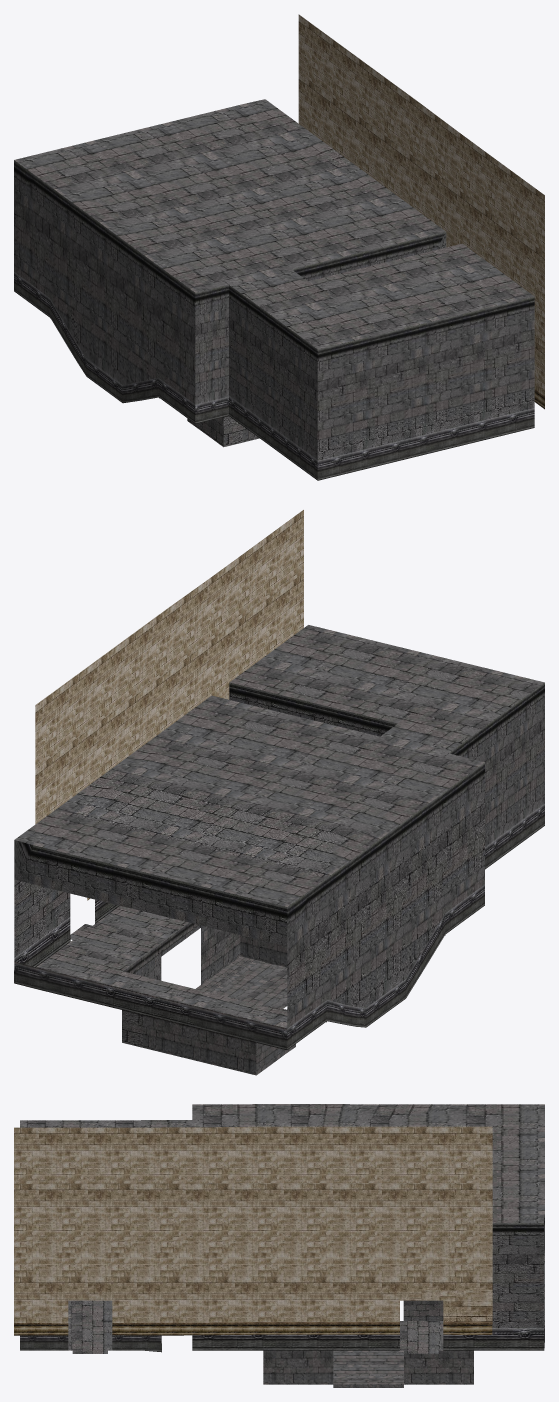
3 renders of one model, top to bottom at view 1: azimuth 30°, elevation 25°; view 2: azimuth 150°, elevation 25°; view 3: azimuth 270°, elevation 25°, orthographic. The views are drawn at different scales.
Parts seen in each view (by area): view 1: Object05; view 2: Object05; view 3: Object05.
Part boxes in pixels (x1,y1,x2,y2): Object05: (14,14,544,480); Object05: (14,510,544,1075); Object05: (14,1104,544,1387).
Size of the model in its own units: 411 by 461 by 754.
